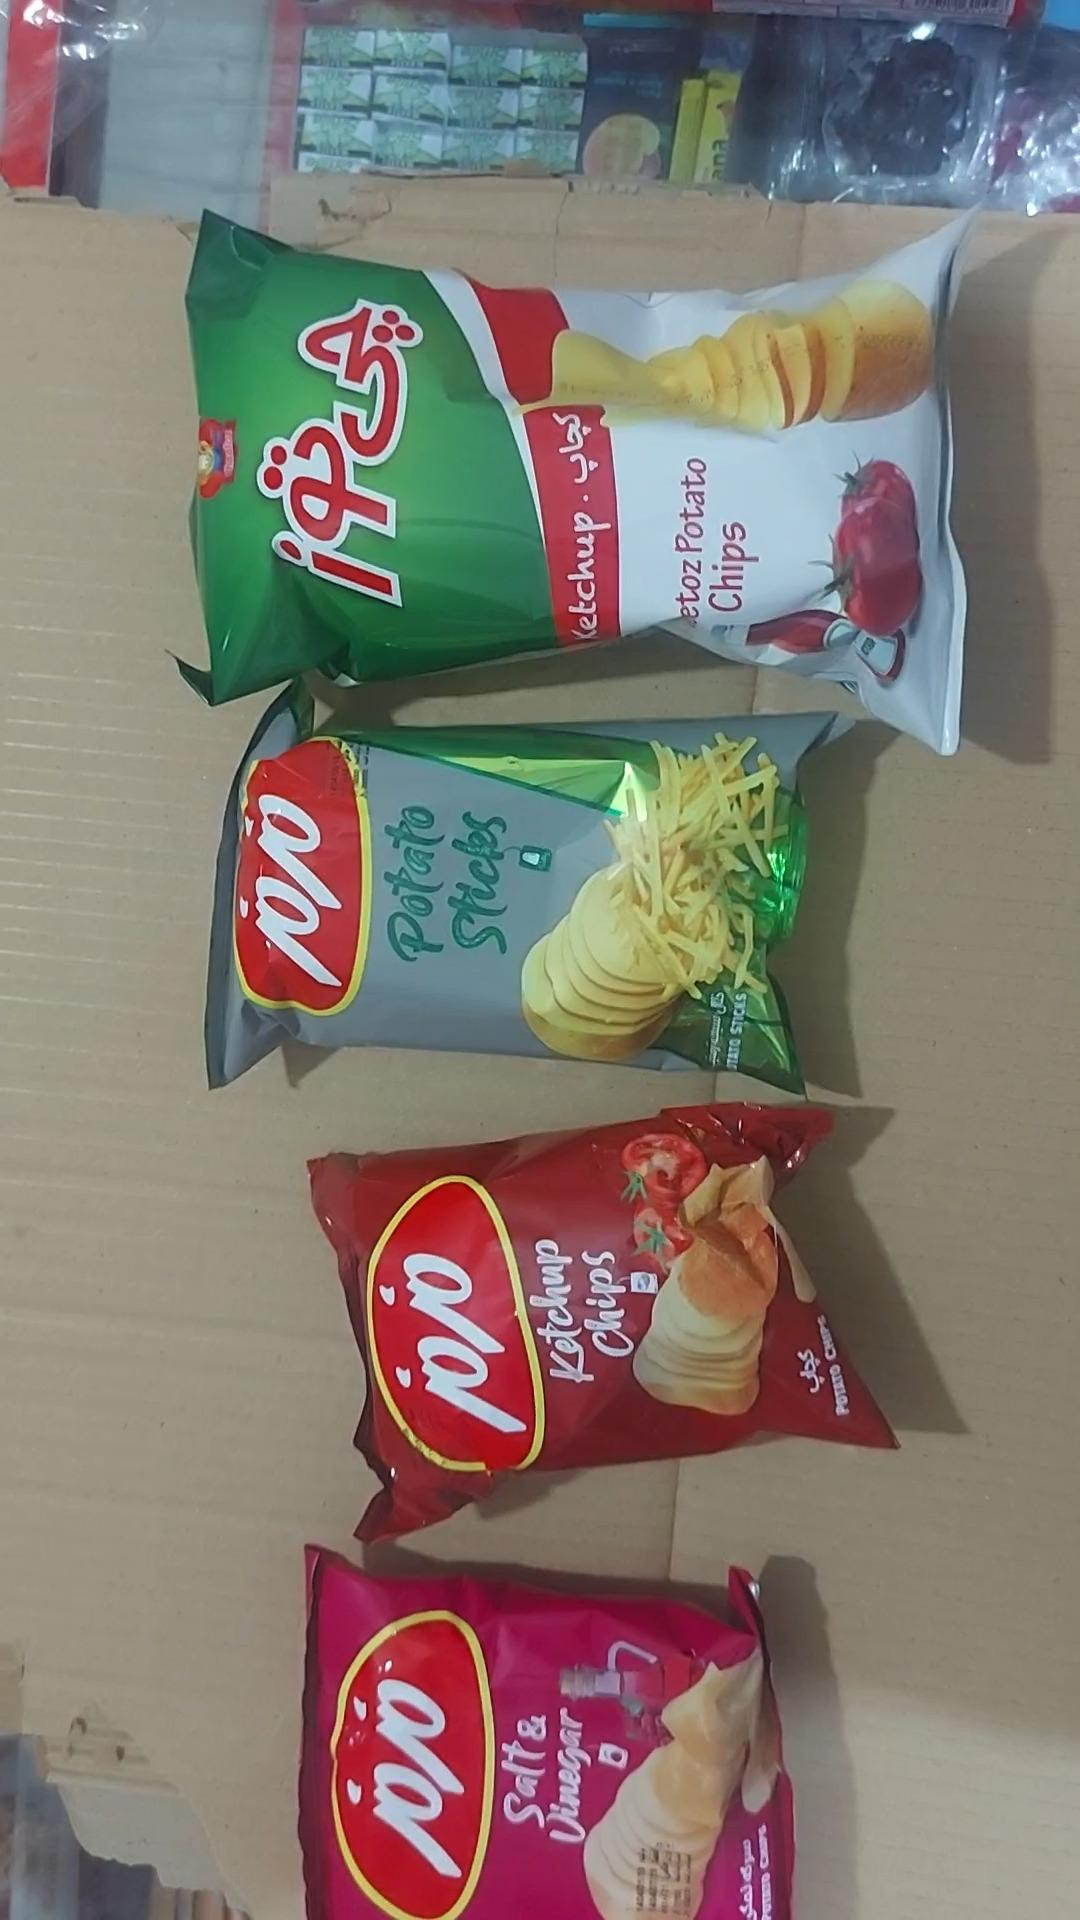Cheetoz ketchup chips: (170, 211, 978, 758)
Maz Maz ketchup chips: (305, 1102, 902, 1545)
Maz Maz potato sticks: (204, 675, 857, 1096)
Maz Maz vinegar chips: (295, 1545, 796, 1919)
